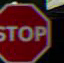Stop: (0, 3, 51, 62)
